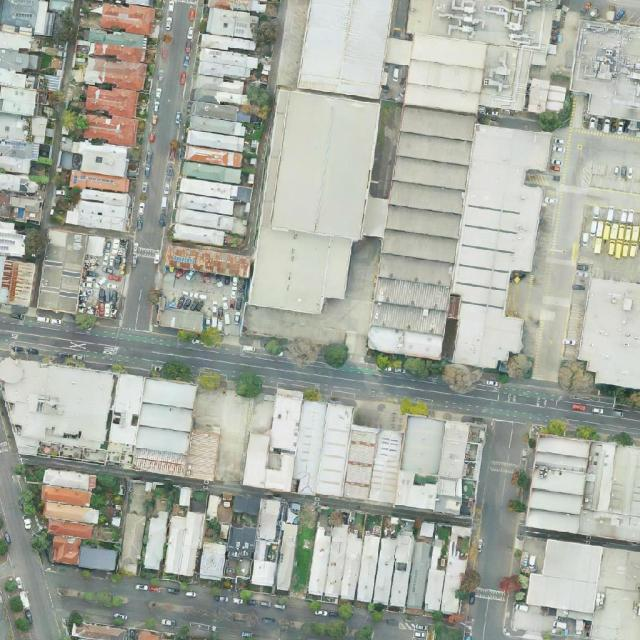building: (248, 0, 395, 320), (242, 385, 489, 521), (368, 105, 478, 361), (442, 123, 552, 373), (306, 510, 472, 616), (163, 484, 304, 591), (524, 433, 640, 542), (74, 0, 156, 148), (117, 478, 210, 584), (55, 139, 138, 231), (569, 19, 640, 121), (403, 32, 488, 116), (39, 465, 103, 567), (526, 537, 603, 614), (35, 228, 89, 315), (267, 0, 310, 90), (242, 432, 299, 493), (163, 243, 253, 280), (0, 221, 37, 306), (157, 307, 205, 332), (362, 197, 389, 237), (78, 545, 118, 571)
greenland: (13, 462, 52, 556), (158, 357, 227, 395), (369, 351, 447, 382), (534, 95, 583, 136), (86, 472, 122, 526), (438, 359, 484, 399), (539, 416, 603, 443), (557, 359, 595, 392), (319, 337, 353, 371), (53, 5, 78, 45), (432, 608, 461, 640), (177, 327, 223, 347), (243, 82, 274, 111), (60, 110, 90, 136), (22, 228, 47, 259), (506, 353, 534, 379), (236, 372, 262, 398), (254, 20, 279, 46), (400, 397, 430, 416), (262, 336, 285, 360), (605, 431, 634, 446), (75, 314, 95, 329), (302, 387, 323, 401), (0, 537, 9, 556)
metalled_road: (126, 0, 203, 254), (470, 419, 530, 591), (120, 257, 162, 332)
